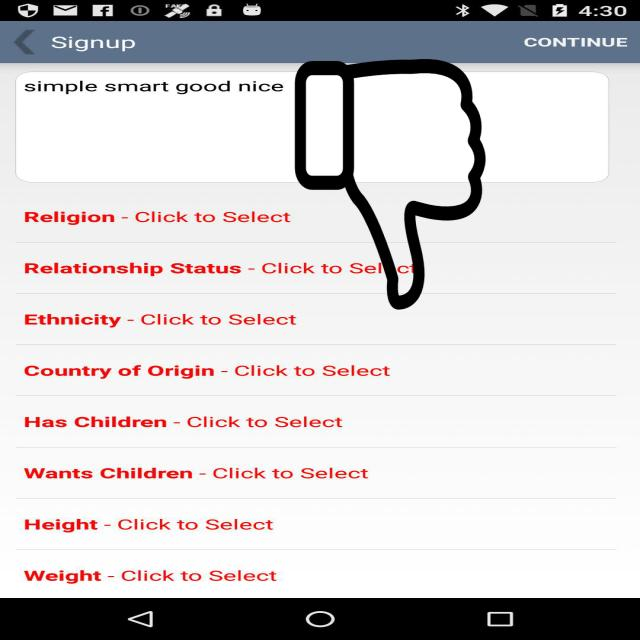obstruction: (292, 59, 488, 310)
